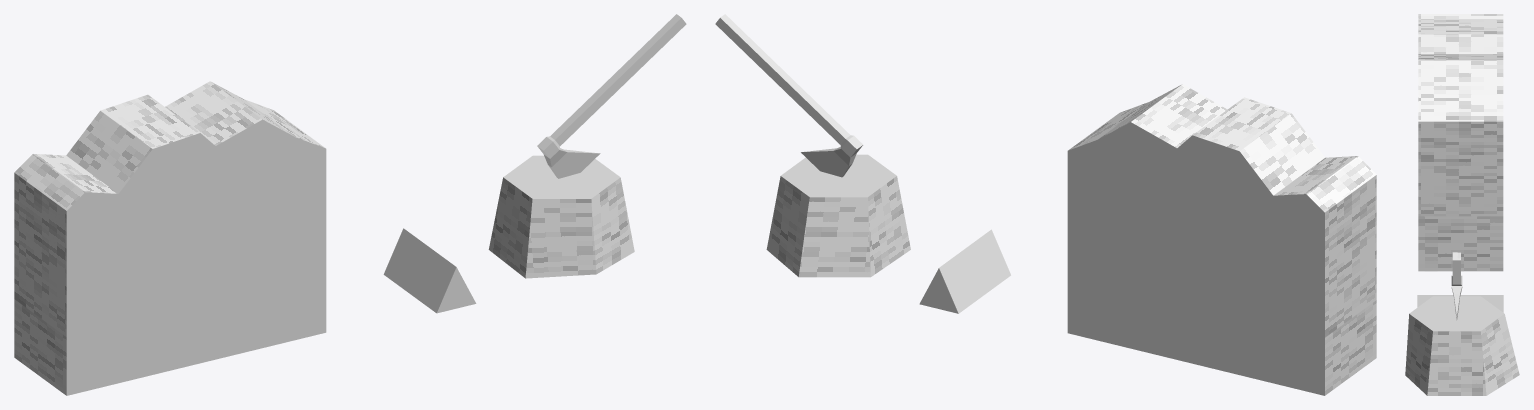
The model's file is mod_firewood.fbx.
3 views of the same model, side by side, from view 1: azimuth 30°, elevation 25°; view 2: azimuth 150°, elevation 25°; view 3: azimuth 270°, elevation 25° (orthographic). The views are drawn at different scales.
Visible parts, largest first — view 1: firewood_pile_top, firewood_pile_bot, chopping_block, firewood_single; view 2: firewood_pile_top, firewood_pile_bot, chopping_block, firewood_single; view 3: firewood_pile_top, chopping_block, firewood_pile_bot, firewood_single.
Boxes of the visible parts, box(x1,y1,x2,y2) form: firewood_pile_top: box(14, 81, 326, 337); firewood_pile_bot: box(14, 249, 326, 395); chopping_block: box(488, 14, 686, 278); firewood_single: box(383, 228, 476, 313); firewood_pile_top: box(1067, 84, 1376, 337); firewood_pile_bot: box(1067, 251, 1376, 395); chopping_block: box(715, 14, 910, 277); firewood_single: box(919, 229, 1010, 313); firewood_pile_top: box(1418, 14, 1503, 216); chopping_block: box(1405, 252, 1519, 395); firewood_pile_bot: box(1418, 216, 1503, 271); firewood_single: box(1417, 295, 1503, 312).
Bounding box in the file's own units: 4.94 × 1.75 × 0.94.
